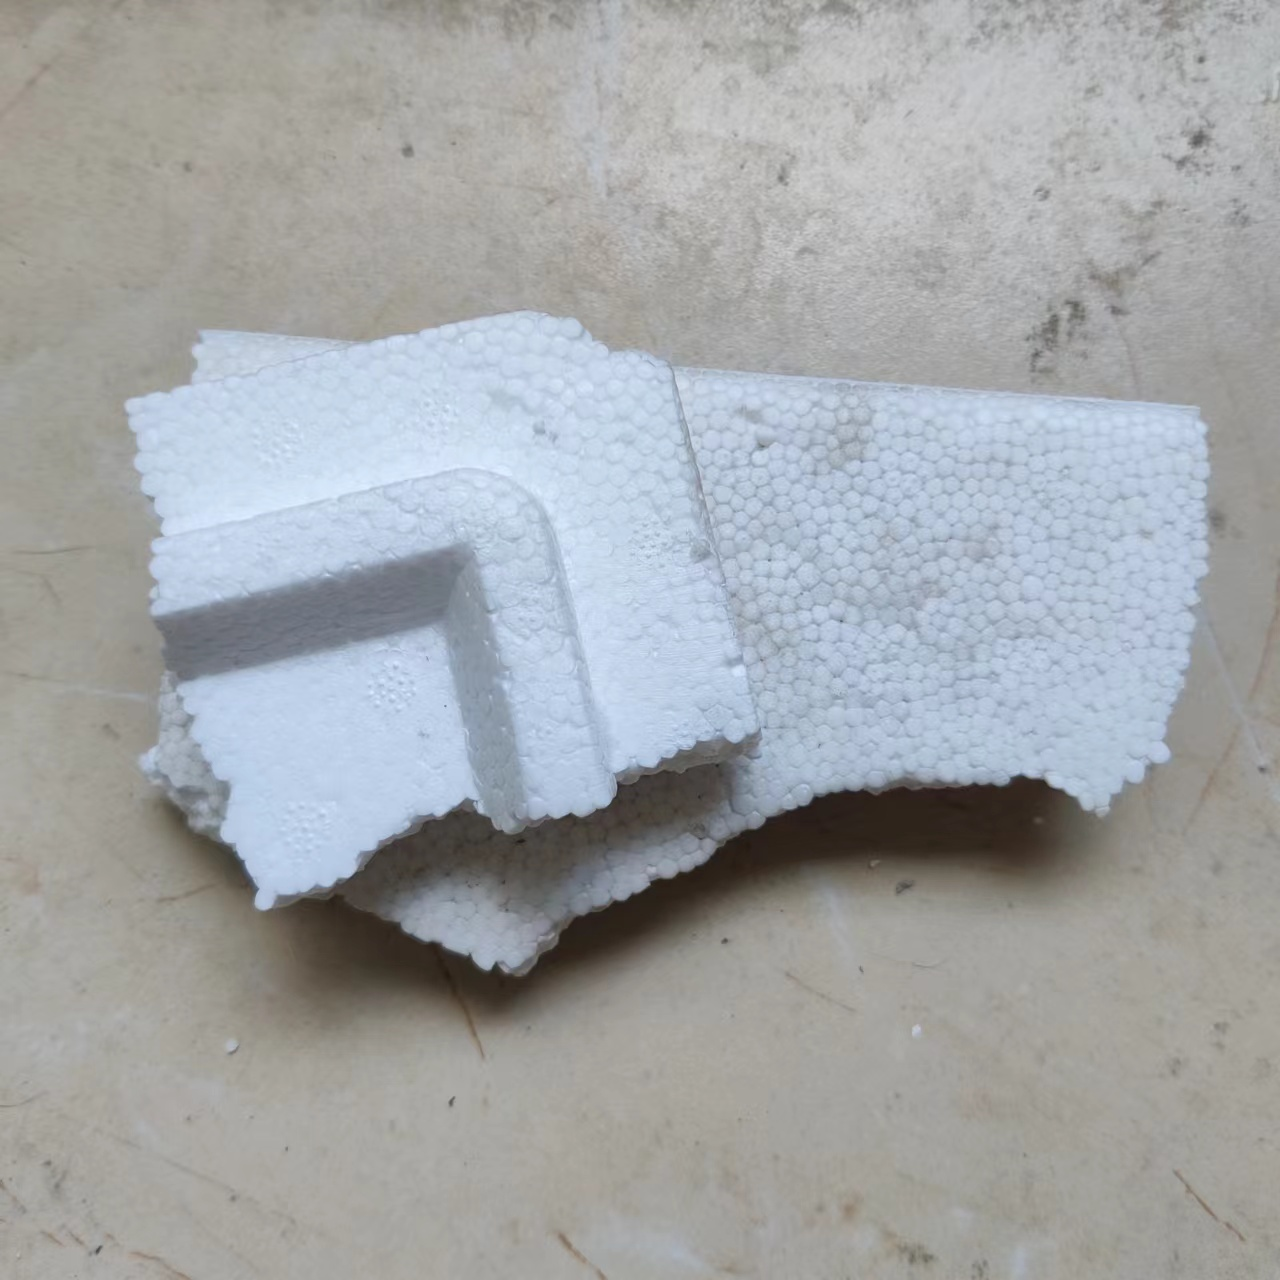5/可回收垃圾/泡沫: (136, 329, 1214, 978), (124, 312, 763, 910)
